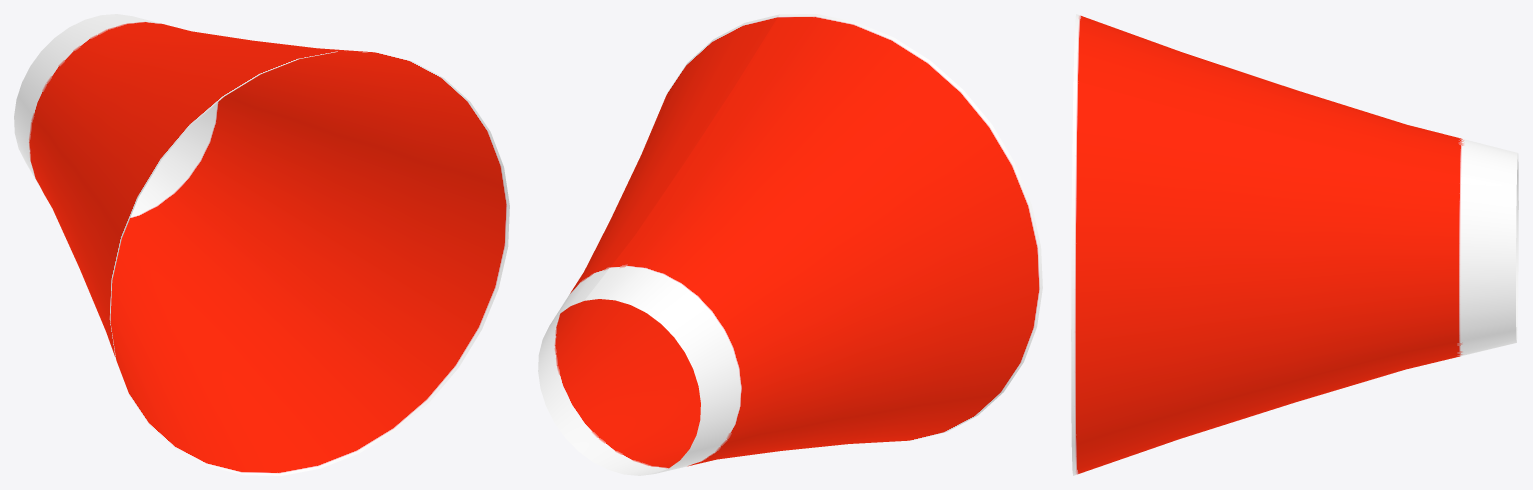
Rendered from red-portal.glb.
The picture shows the model from 3 angles, left to right: view 1: azimuth 30°, elevation 25°; view 2: azimuth 150°, elevation 25°; view 3: azimuth 270°, elevation 25°; orthographic projection.
Visible parts, largest first — view 1: portal_entrance; view 2: portal_entrance; view 3: portal_entrance.
Boxes of the visible parts, x1,y1,x2,y2 form: portal_entrance: (14,14,509,475); portal_entrance: (538,14,1042,475); portal_entrance: (1071,14,1518,475).
Bounding box in the file's own units: 2.34 × 2.34 × 2.27.
1 material, 1 textured.
